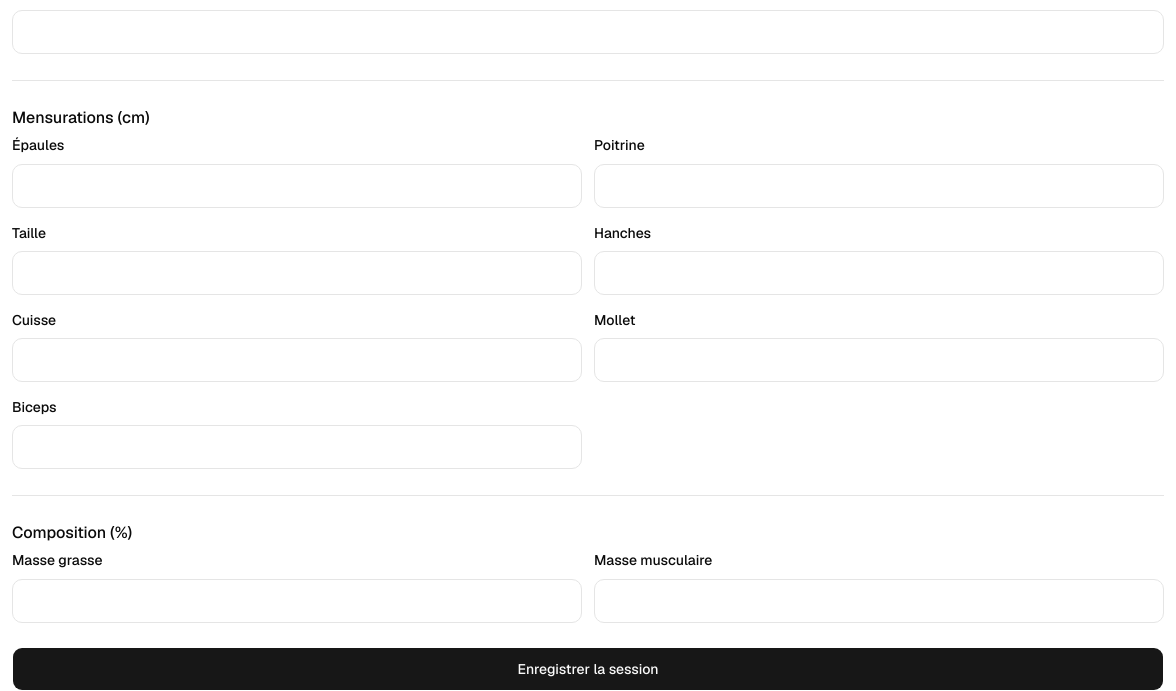
Scenario: MeasurementSessionForm — submission › shows the server's form-level message in an Alert when the form is submitted empty
(page scrolled)
Click the button "Enregistrer la session".
click(588, 668)  # box left=12, top=646, right=1164, bottom=690
(page scrolled)
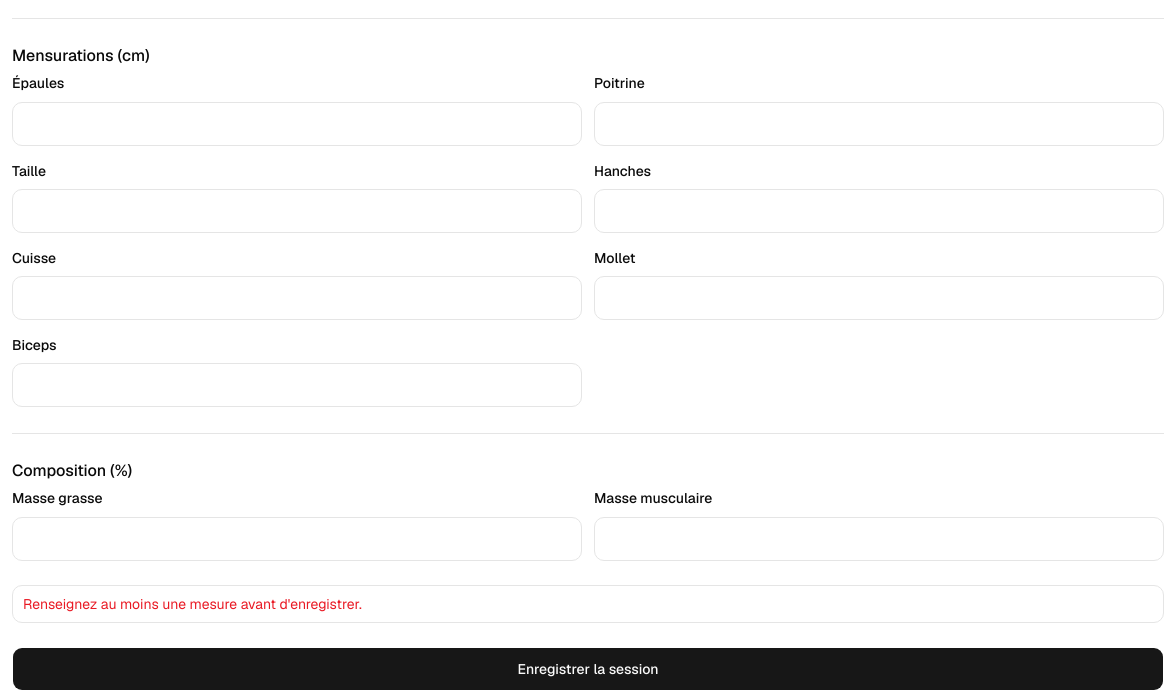
Expected: the message reads "Renseignez au moins une mesure avant d'enregistrer.", left=23, top=594, right=362, bottom=612
